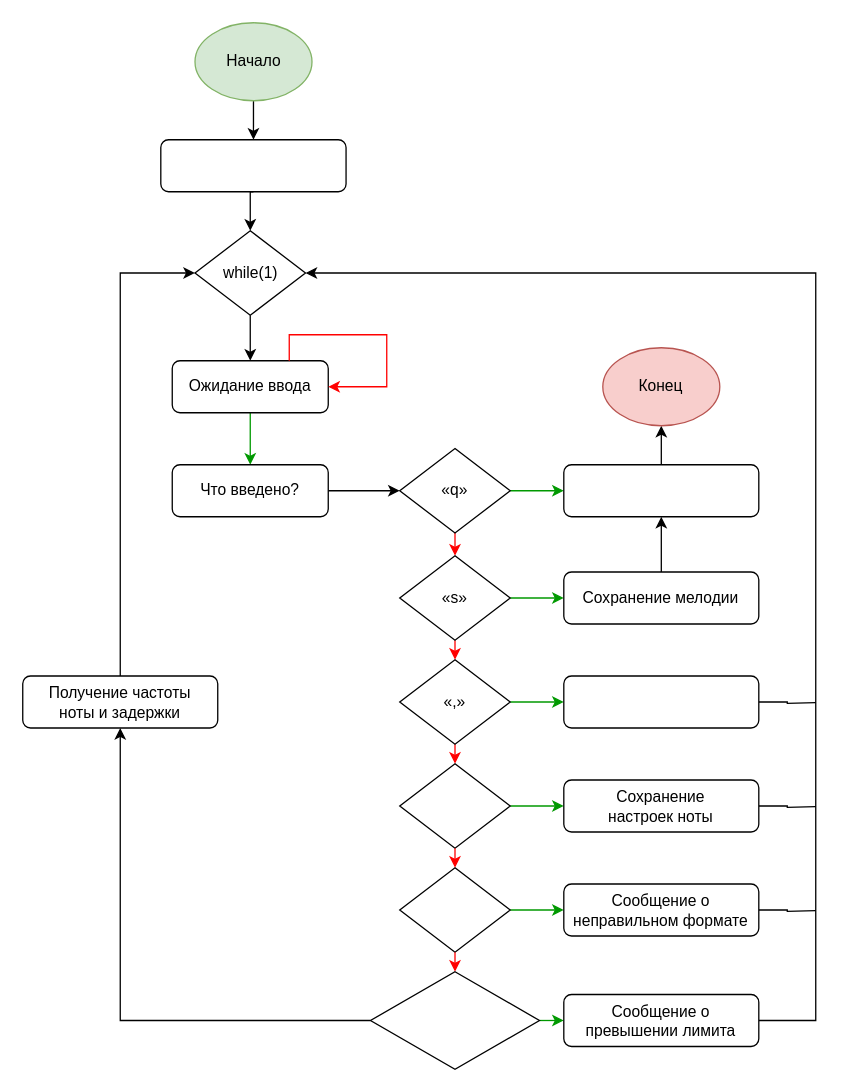
Some shapes in this 849 by 1092 pixel diagram are drawn without their labels. Here are the shapes that lost their labels. From the top down, the centre of each, then its label:
At (x=253, y=165): "Инициализация переменных".
At (x=661, y=490): "Выход из режима настройки".
At (x=661, y=701): "Разделение формата".
At (x=454, y=805): "«Enter»".
At (x=454, y=909): "Любое значение не число".
At (x=454, y=1019): "Превышена длина мелодии?".
